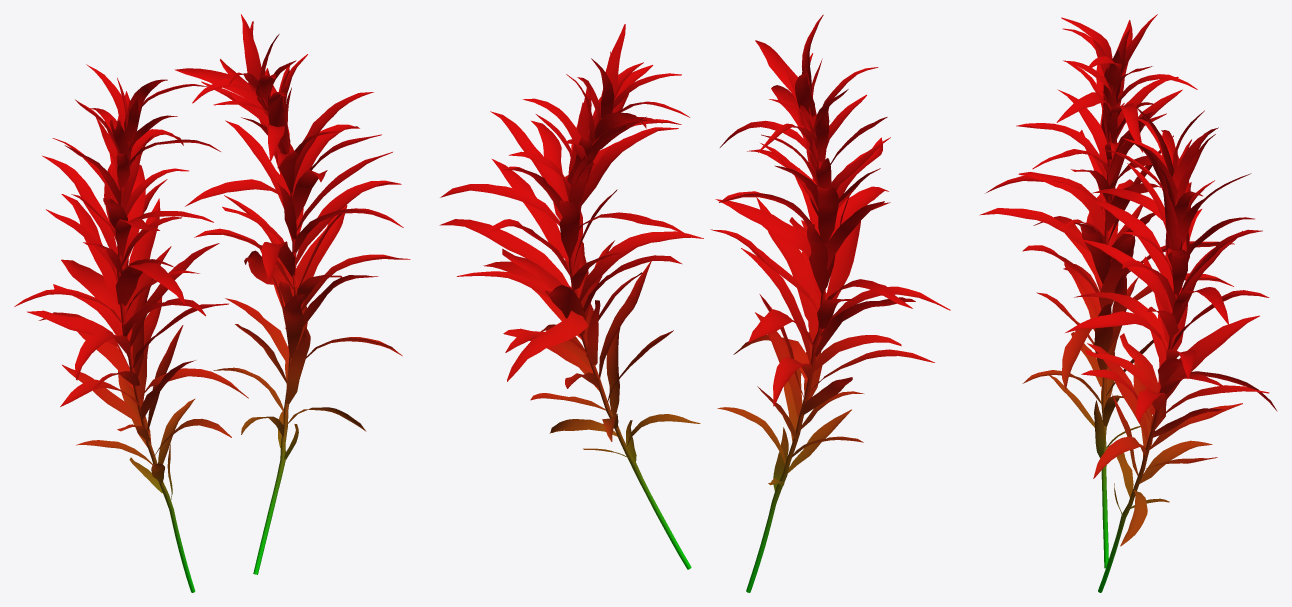
File: Butterfly Weed_LOD0_Var8.fbx
3 views of the same model, side by side, from view 1: azimuth 30°, elevation 25°; view 2: azimuth 150°, elevation 25°; view 3: azimuth 270°, elevation 25° (orthographic). The views are drawn at different scales.
Parts seen in each view (by area): view 1: _nsos_Var8_LOD0; view 2: _nsos_Var8_LOD0; view 3: _nsos_Var8_LOD0.
Boxes of the visible parts, x1,y1,x2,y2 form: _nsos_Var8_LOD0: (14, 14, 410, 592); _nsos_Var8_LOD0: (439, 14, 950, 592); _nsos_Var8_LOD0: (979, 14, 1277, 592).
Size of the model in its own units: 64.11 by 79.38 by 40.69.
